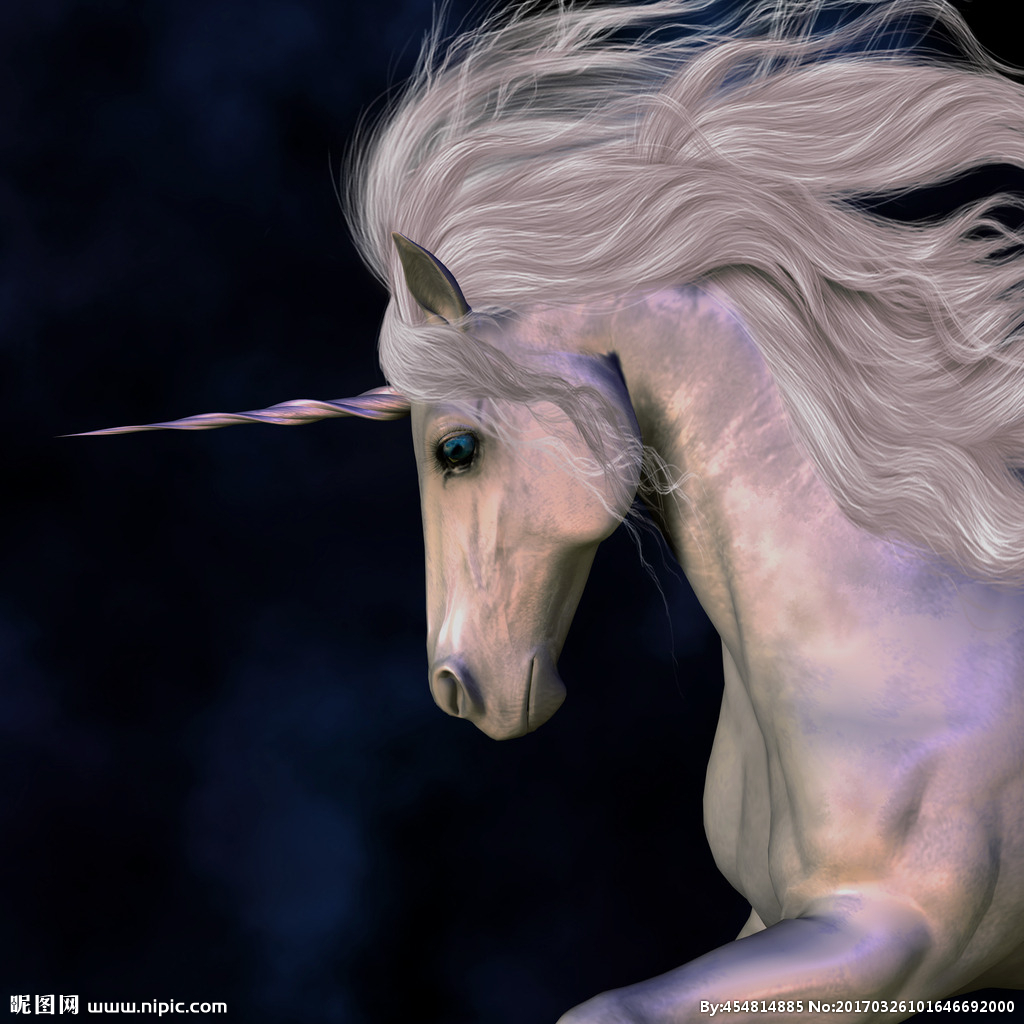background: (40, 27, 1024, 1024)
